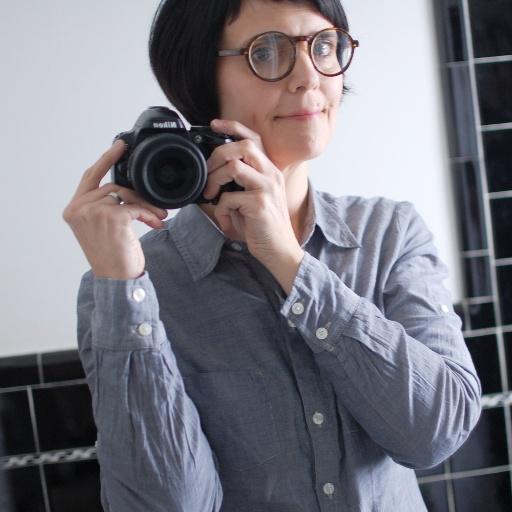hand: (59, 136, 167, 283), (194, 131, 302, 255)
